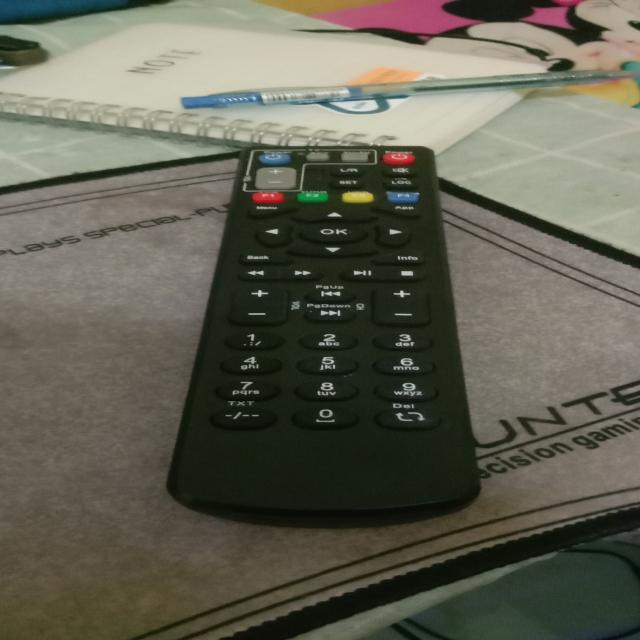remote: (157, 137, 498, 523)
